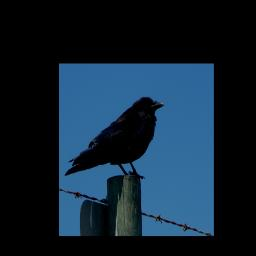Crow: (64, 96, 166, 180)
